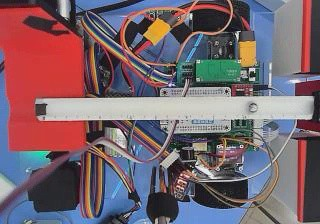ironball: (248, 101, 256, 113)
